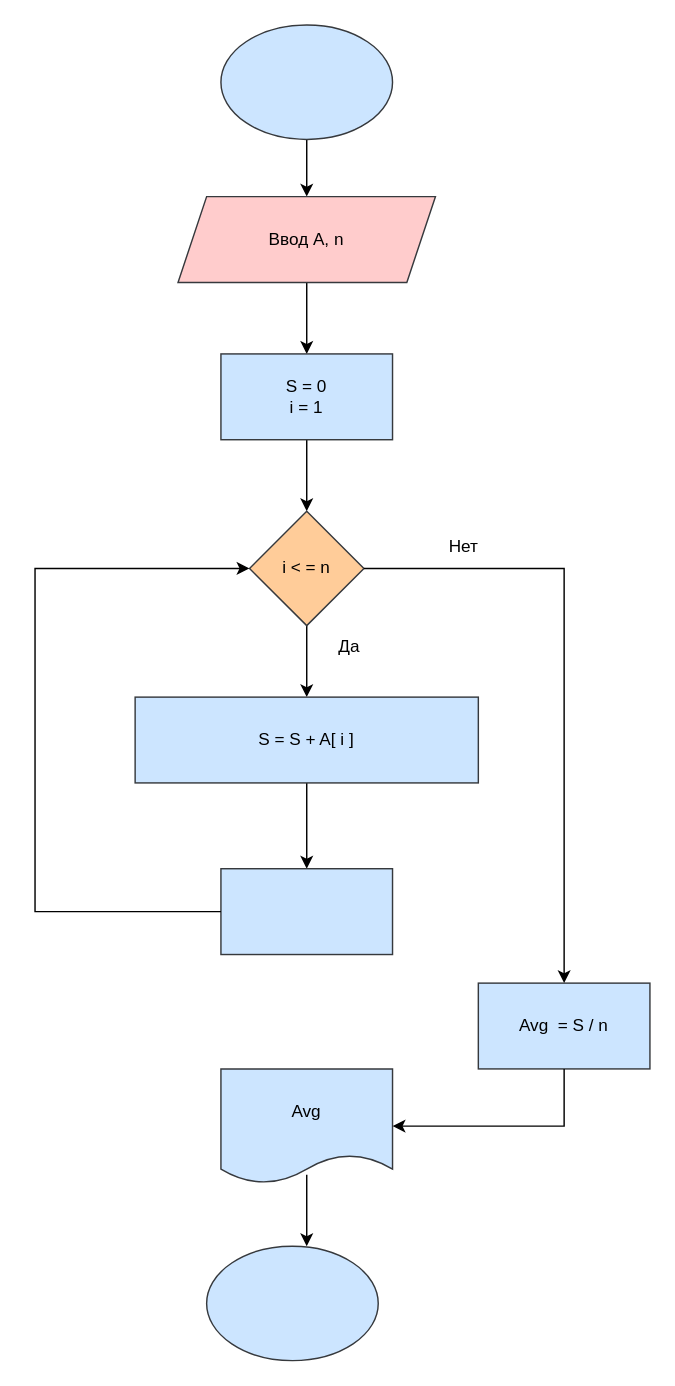
This 675x1386 diagram has some shape labels left out. The box of each missing label's shape, as (x1, y1, x2, y2) in pixels:
i = i + 1: (220, 867, 393, 955)
Конец: (205, 1245, 378, 1361)
Начало: (220, 24, 393, 139)
